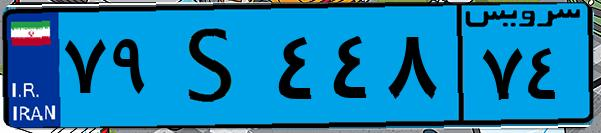4: (270, 28, 330, 110), (330, 28, 385, 110), (525, 38, 570, 115)
7: (57, 26, 110, 100), (475, 38, 525, 113)
8: (385, 28, 445, 110)
9: (110, 28, 158, 98)
S: (158, 12, 270, 120)
